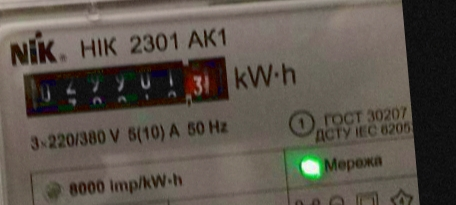0: (137, 67, 154, 93), (37, 81, 53, 105)
1: (164, 65, 178, 90)
2: (62, 74, 79, 97)
3: (189, 74, 206, 98)
9: (113, 71, 127, 95), (88, 72, 102, 94)
screen: (14, 48, 240, 129)
